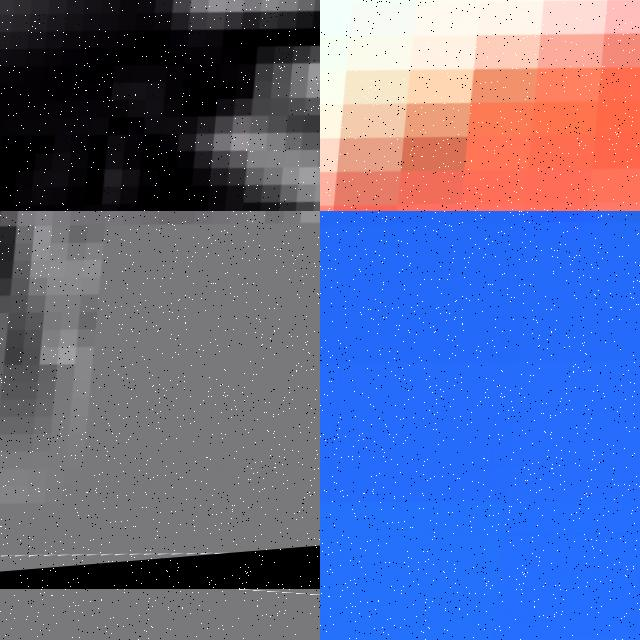0: (320, 211, 640, 640), (0, 211, 320, 589), (0, 0, 320, 211)
drone: (320, 0, 640, 211)
